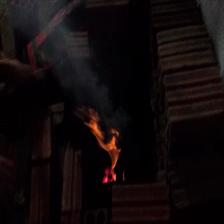fire: (85, 120, 129, 175)
smoke: (57, 54, 90, 94)
